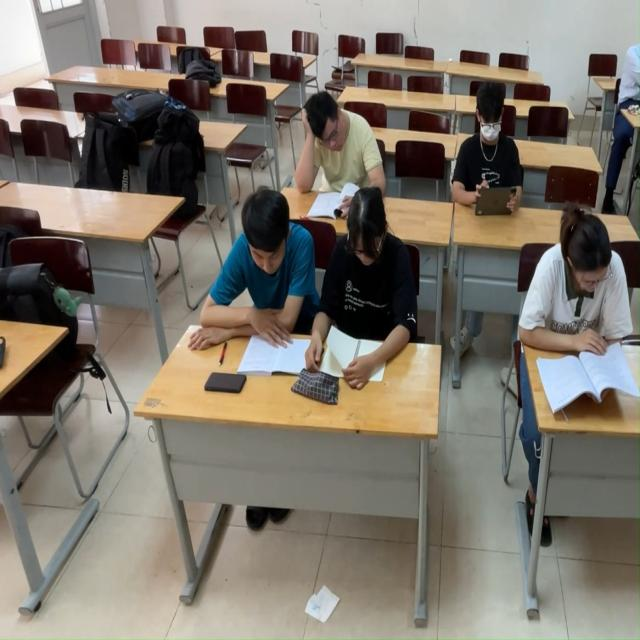read: (303, 176, 424, 403), (512, 213, 640, 416), (211, 206, 312, 385), (285, 87, 393, 219), (457, 92, 535, 221)
